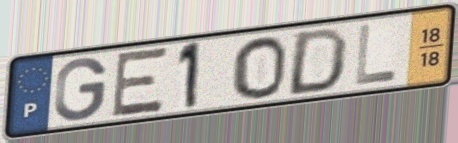1: (174, 38, 205, 113)
D: (283, 25, 351, 98)
E: (108, 45, 171, 121)
G: (52, 55, 110, 124)
L: (352, 22, 400, 89)
O: (230, 34, 288, 101)
